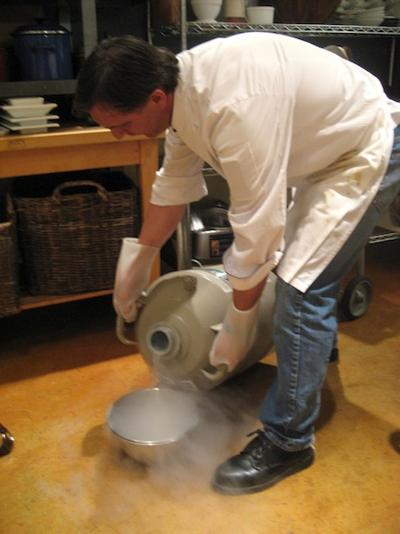person: (76, 32, 400, 494)
